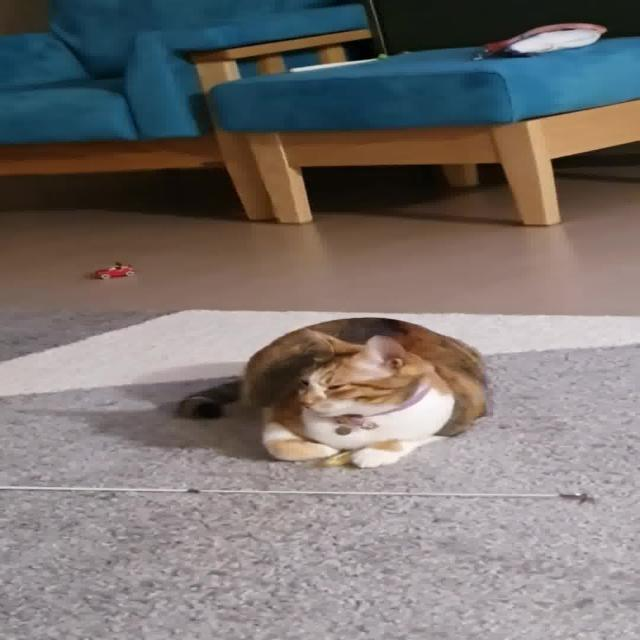cat: (155, 305, 511, 480)
